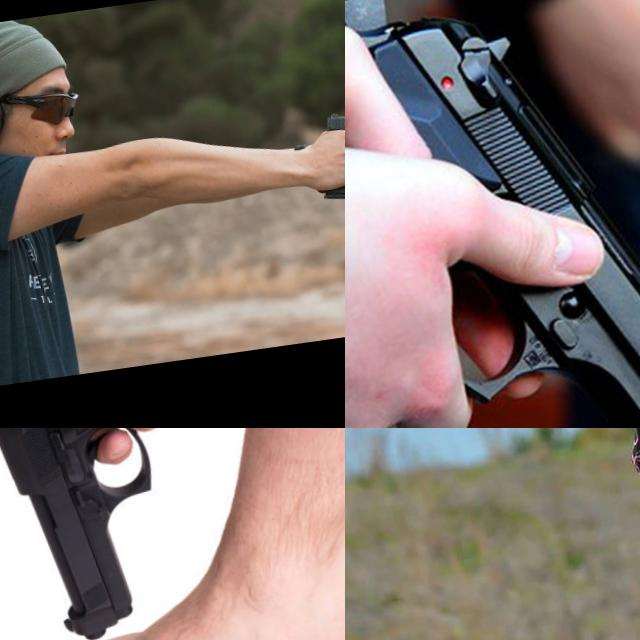handgun: (345, 0, 640, 428), (0, 428, 268, 640), (345, 428, 404, 462)
